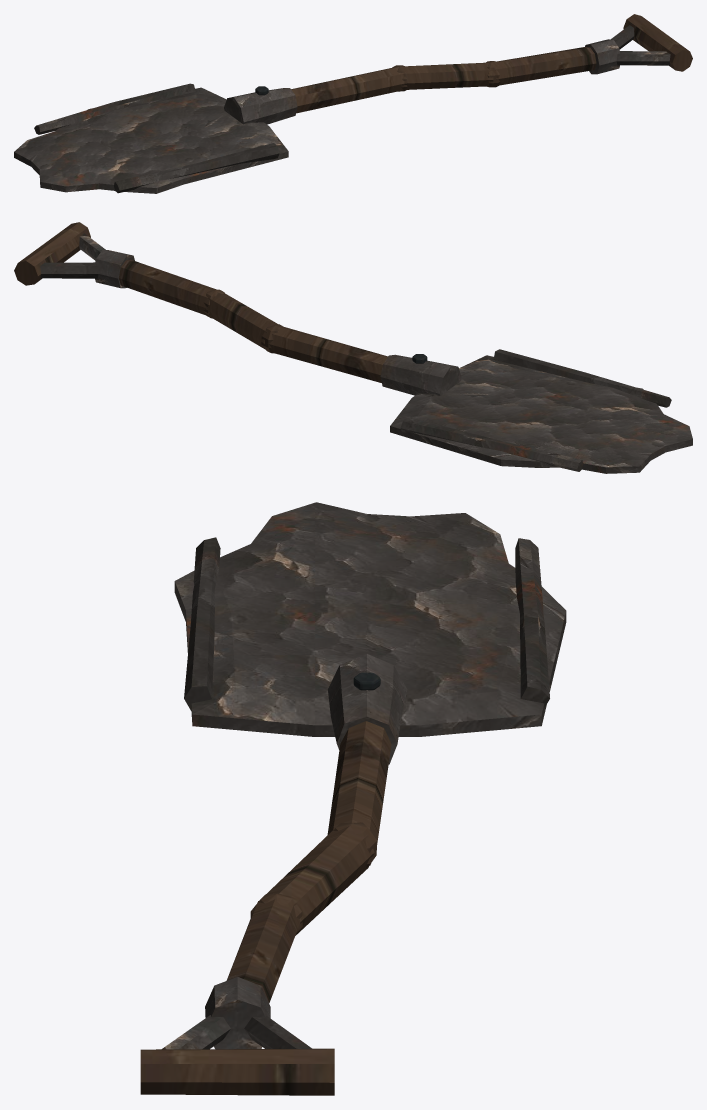
The model's file is junk_shovel_bent.glb.
3 views of the same model, one above another, from view 1: azimuth 30°, elevation 25°; view 2: azimuth 150°, elevation 25°; view 3: azimuth 270°, elevation 25° (orthographic). The views are drawn at different scales.
Visible parts, largest first — view 1: model; view 2: model; view 3: model.
Boxes of the visible parts, <box> form: model: <box>14,14,692,193</box>; model: <box>14,222,692,473</box>; model: <box>140,502,566,1095</box>.
Size of the model in its own units: 1.09 by 0.0629 by 0.329.
5 materials, 5 textured.
